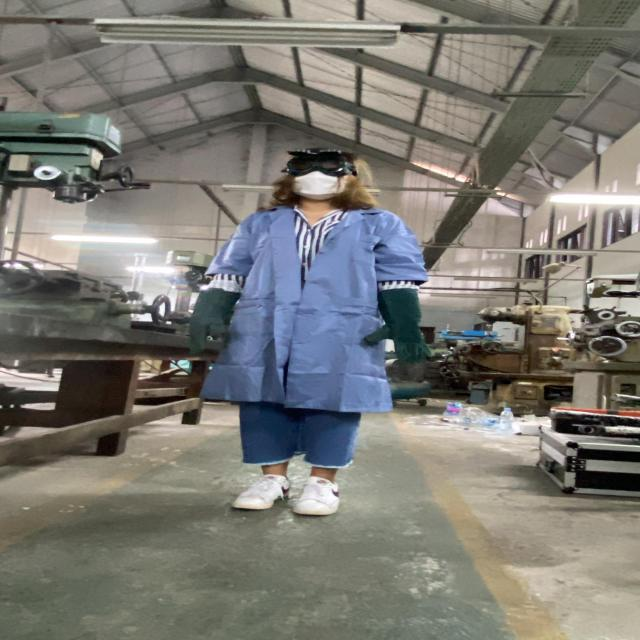glasses: (274, 144, 360, 178)
